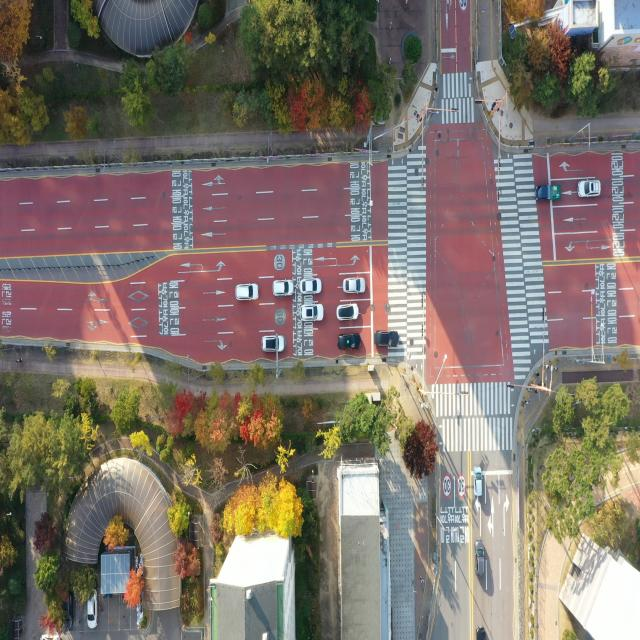car: (374, 328, 399, 347), (87, 587, 98, 627), (264, 335, 286, 354), (237, 282, 260, 300), (476, 541, 487, 578), (344, 276, 366, 294), (579, 180, 601, 197), (303, 304, 323, 322), (338, 305, 359, 321), (274, 280, 293, 296), (302, 278, 322, 293), (339, 336, 360, 350), (473, 468, 482, 498), (477, 625, 490, 640)
small_truck: (536, 183, 562, 200)
